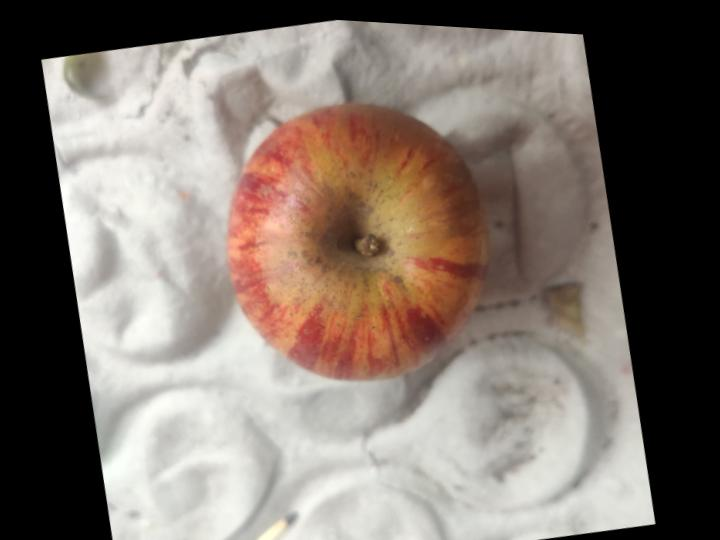apple: (227, 103, 488, 379)
bruise_discoloration: (266, 106, 479, 313)
